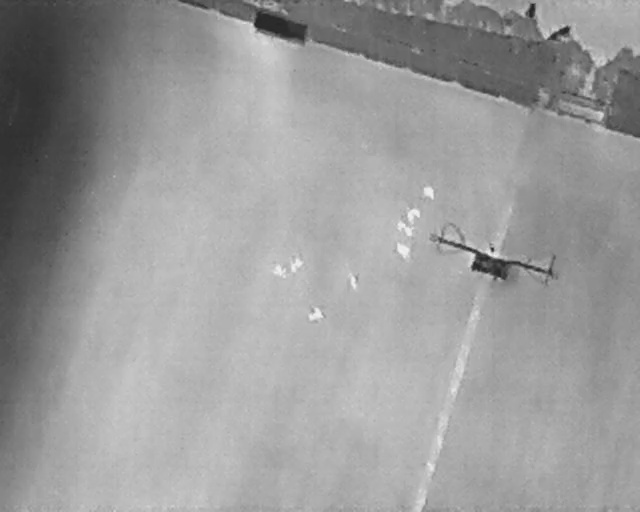Person: (305, 304, 327, 324), (270, 262, 290, 279), (395, 241, 411, 260), (289, 257, 304, 273), (407, 207, 421, 224), (347, 272, 360, 290), (423, 185, 435, 201), (398, 220, 407, 233), (404, 226, 414, 236)
